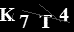4: (58, 7, 70, 23)
7: (18, 14, 29, 29)
K: (1, 7, 16, 22)
T: (37, 14, 54, 29)
